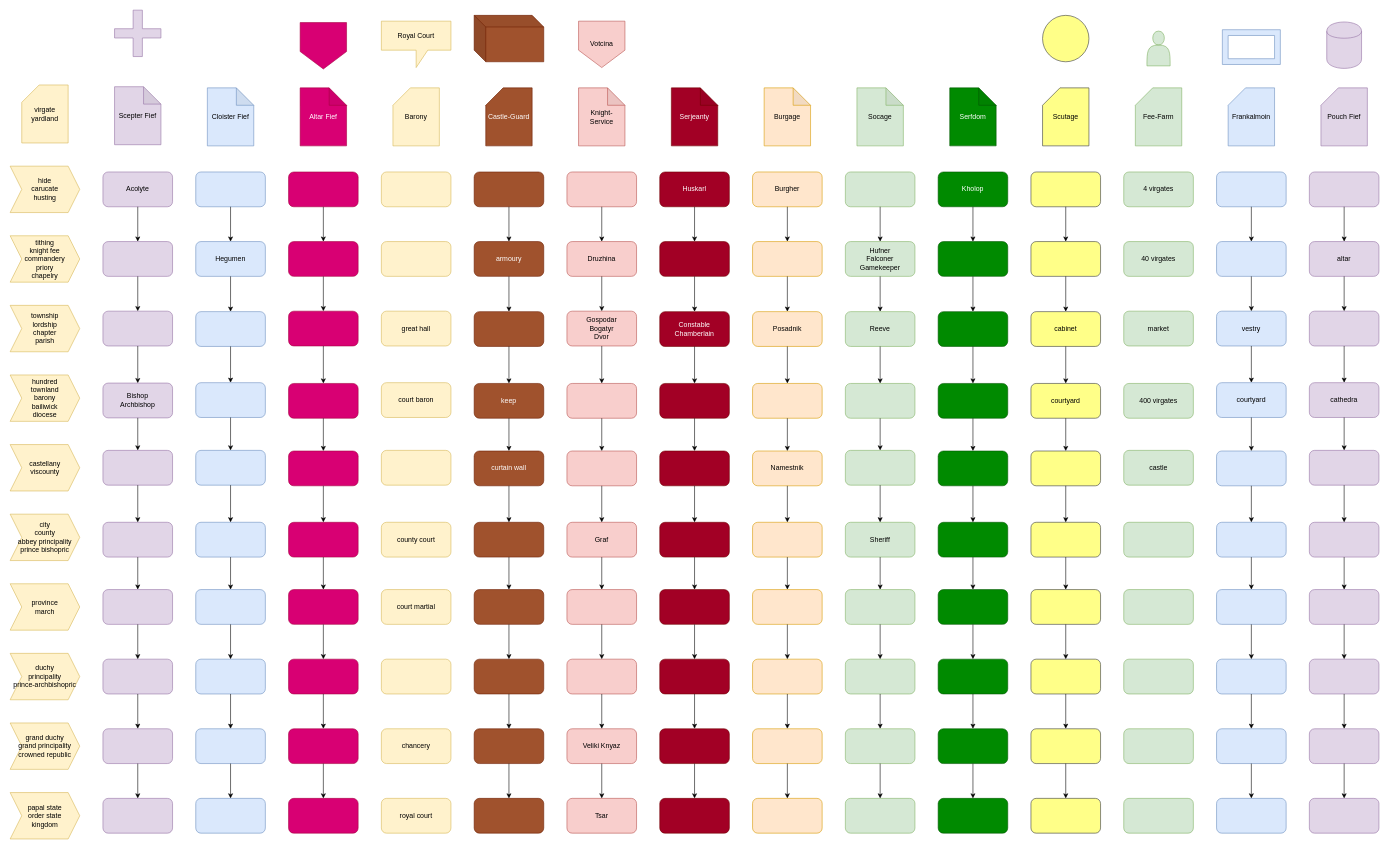
Some shapes in this 1389 by 849 pixel diagram are drawn without their labels. Here are the shapes that lost their labels. From the top down, the box of each, then its label:
(114, 10, 161, 57): orthodox
(474, 15, 544, 62): Russian Manor
(1042, 15, 1089, 62): Florin
(195, 171, 265, 207): Monk
(566, 171, 637, 207): Squire
(845, 171, 915, 207): Cottar
(102, 241, 173, 276): Chaplain
(659, 241, 729, 276): Varangian Butler Panter
(752, 241, 822, 276): Patrician Innkeeper
(938, 241, 1008, 276): Smerd
(1030, 241, 1101, 276): guest hall workshop parlour
(1216, 241, 1286, 276): cloister
(102, 311, 173, 346): Priest Chancellor
(195, 311, 265, 346): Archimandrite
(1309, 311, 1379, 346): font
(566, 383, 637, 418): Boyar
(752, 383, 822, 418): Sotnya Kontsy
(845, 383, 915, 418): Bailiff
(102, 450, 173, 485): Patriarch
(566, 450, 637, 486): Castellan
(474, 522, 544, 557): outer wall
(752, 522, 822, 557): Tysyatsky
(566, 589, 637, 624): Voivode
(566, 659, 637, 694): Knyaz
